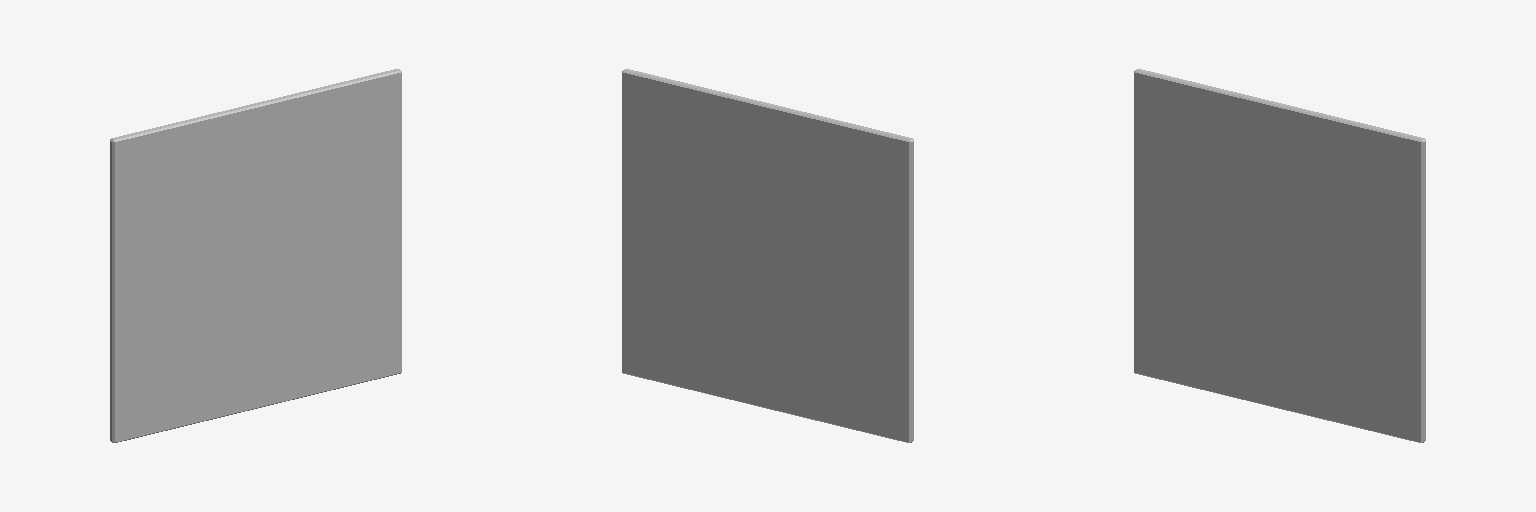
The model's file is panel_4x4.obj.
3 renders of one model, left to right at view 1: azimuth 30°, elevation 25°; view 2: azimuth 150°, elevation 25°; view 3: azimuth 330°, elevation 25°, orthographic.
Parts seen in each view (by area): view 1: 4x4_white_geo_Plane.009; view 2: 4x4_white_geo_Plane.009; view 3: 4x4_white_geo_Plane.009.
Part boxes in pixels (x1,y1,x2,y2): 4x4_white_geo_Plane.009: (110, 69, 401, 442); 4x4_white_geo_Plane.009: (622, 69, 913, 442); 4x4_white_geo_Plane.009: (1134, 69, 1425, 442).
Size of the model in its own units: 3.98 by 3.98 by 0.1.